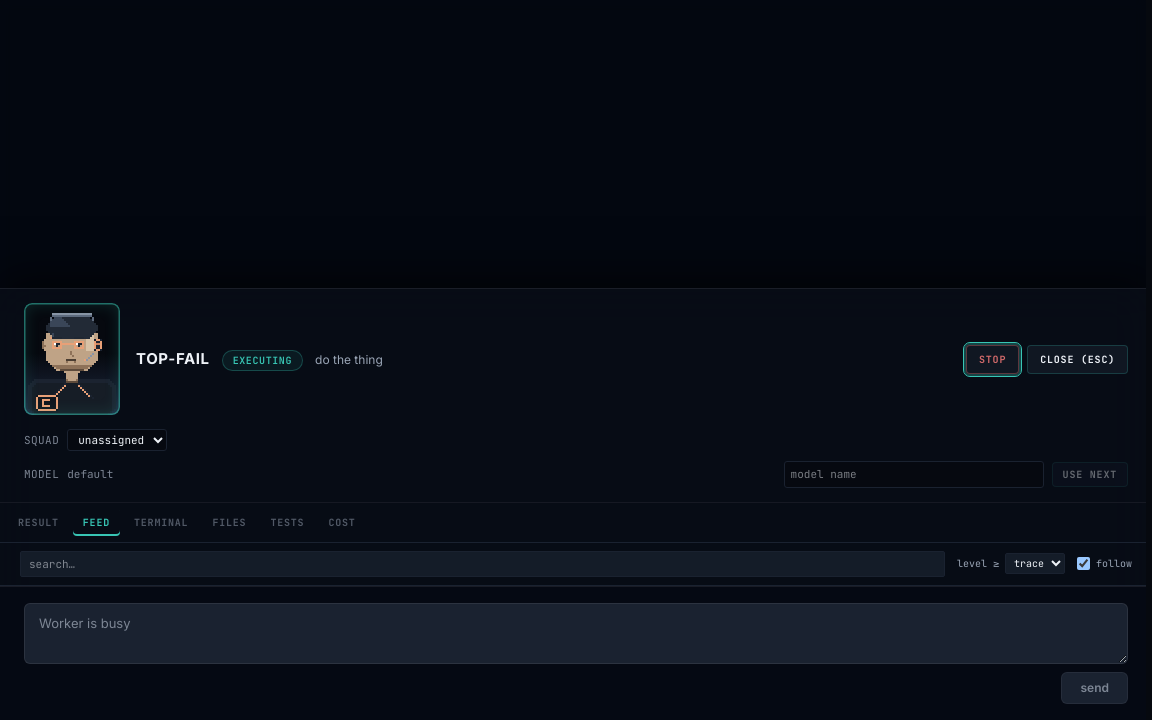
Scenario: Drawer stop › surfaces stop IPC errors inline
Click the button "stop". click: (993, 359)
box: [966, 344, 1019, 374]
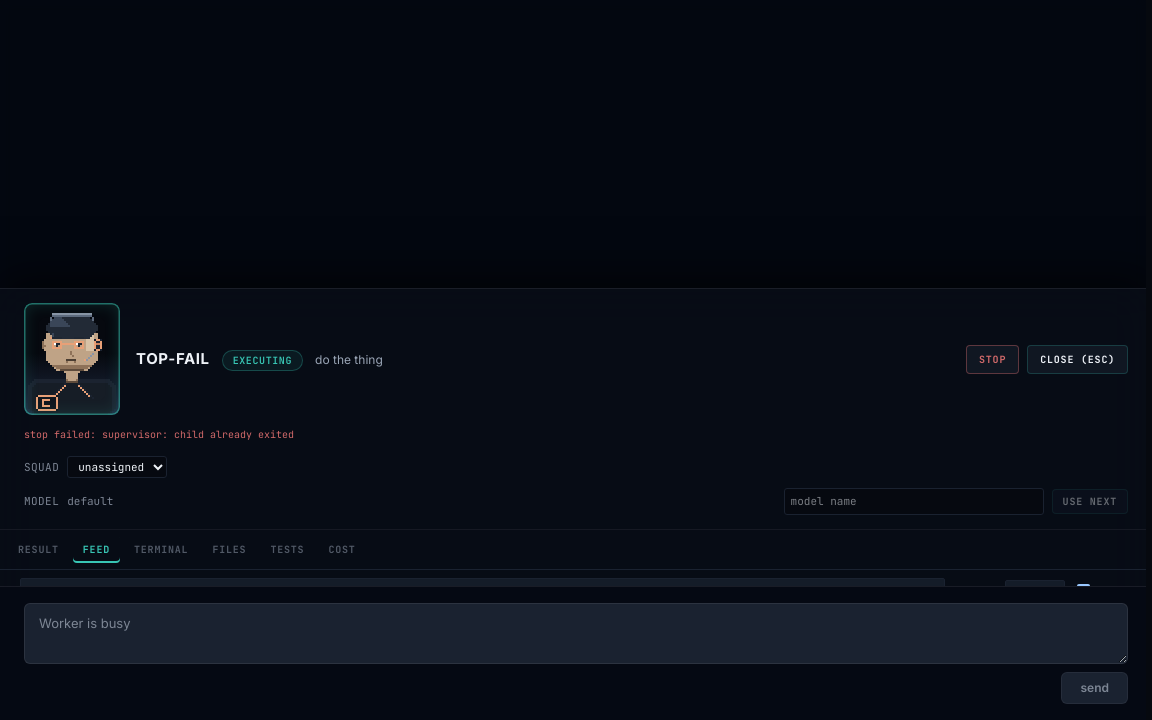
expect the message shows "supervisor: child already exited": met, box [102, 428, 294, 441]
